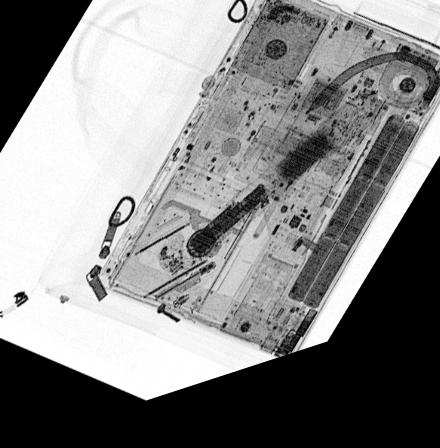Baton: (189, 111, 379, 267)
